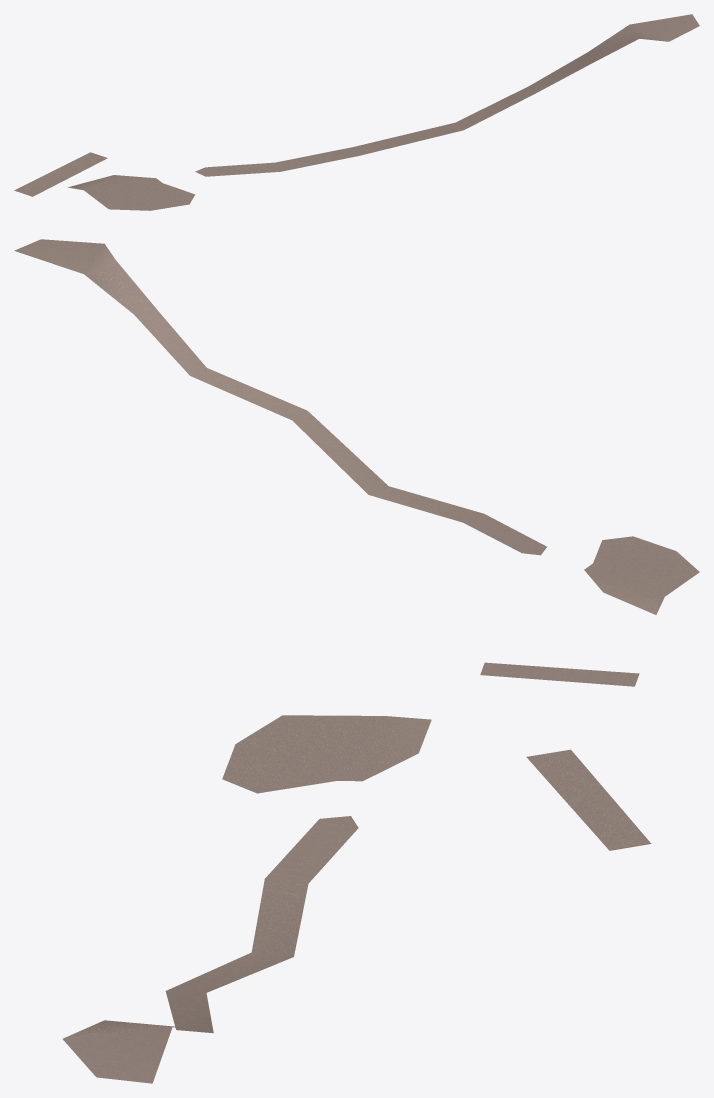
File: kd_stage_136599_10_28.glb
3 renders of one model, top to bottom at view 1: azimuth 30°, elevation 25°; view 2: azimuth 150°, elevation 25°; view 3: azimuth 270°, elevation 25°, orthographic. The views are drawn at different scales.
Parts seen in each view (by area): view 1: kd_stage_136599_10_28; view 2: kd_stage_136599_10_28; view 3: kd_stage_136599_10_28.
Boxes of the visible parts, x1,y1,x2,y2 form: kd_stage_136599_10_28: (14,14,699,210); kd_stage_136599_10_28: (14,239,699,686); kd_stage_136599_10_28: (62,715,651,1083).
Bounding box in the file's own units: 128 × 24.02 × 56.78.
Materials: 1 (1 with a texture image).
